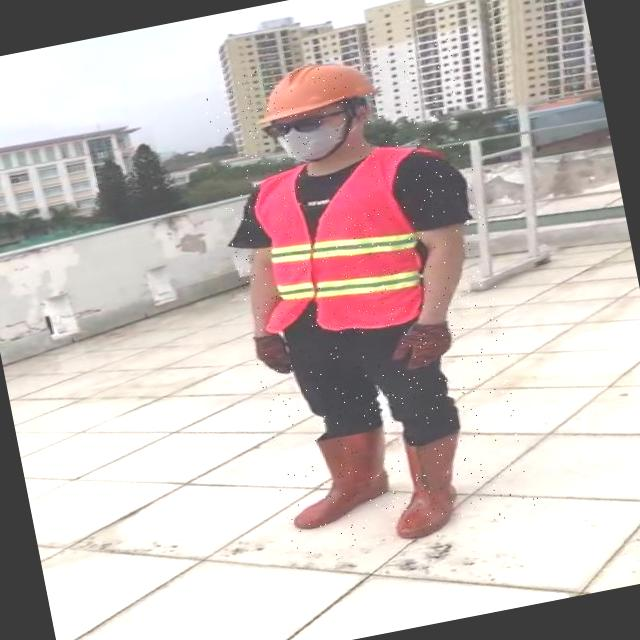boots: (280, 428, 398, 532), (379, 432, 476, 542)
gloves: (358, 291, 486, 395), (231, 312, 327, 398)
helmet: (252, 52, 376, 126)
vest: (238, 143, 444, 350)
